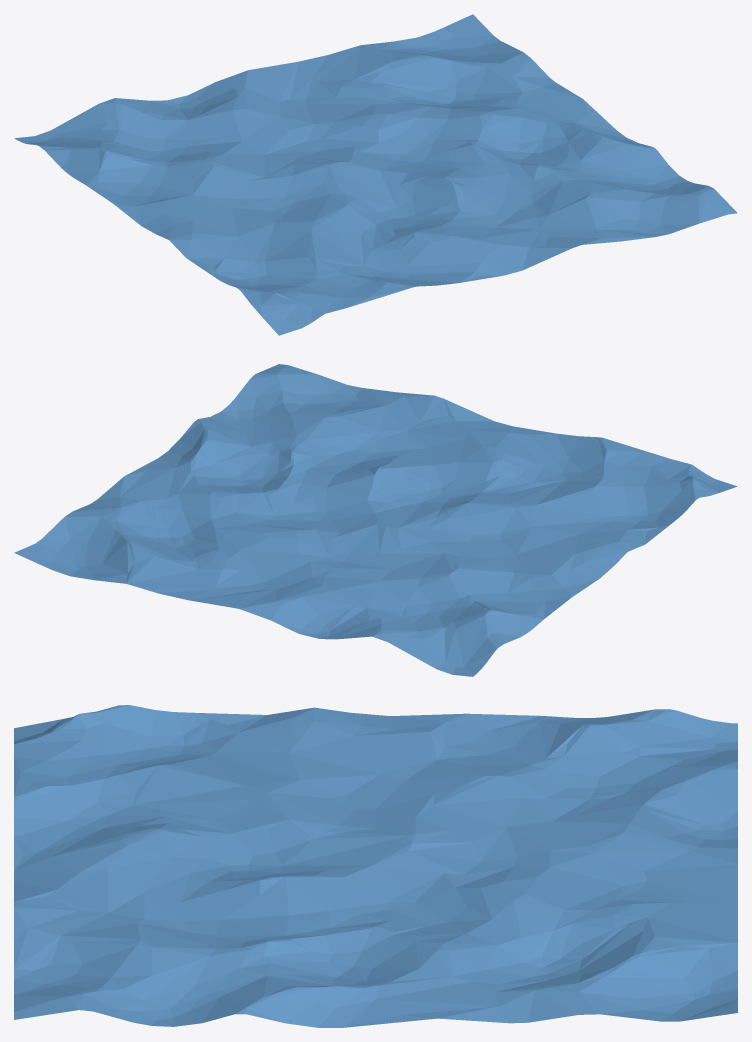
The model's file is FBXOceanWater.fbx.
3 renders of one model, top to bottom at view 1: azimuth 30°, elevation 25°; view 2: azimuth 150°, elevation 25°; view 3: azimuth 270°, elevation 25°, orthographic. The views are drawn at different scales.
Parts seen in each view (by area): view 1: pPlane1; view 2: pPlane1; view 3: pPlane1.
Boxes of the visible parts, x1,y1,x2,y2 form: pPlane1: (14, 14, 737, 335); pPlane1: (14, 364, 737, 676); pPlane1: (14, 705, 737, 1027).
Size of the model in its own units: 24 by 1.04 by 24.
